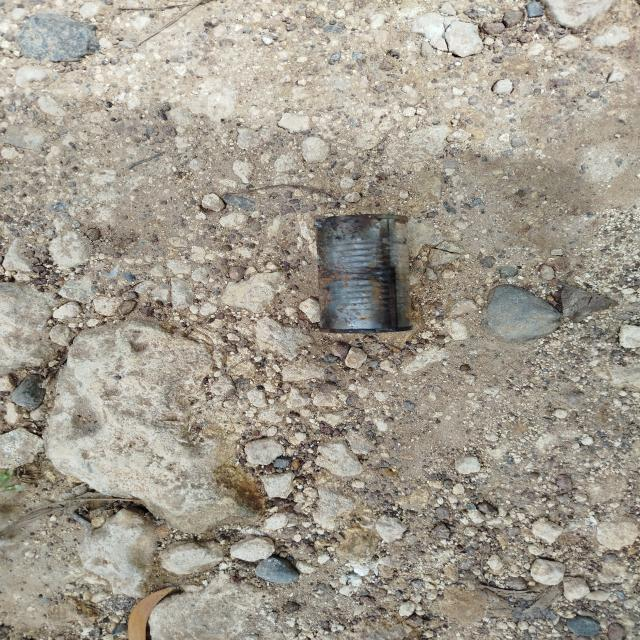metal: (288, 200, 445, 347)
